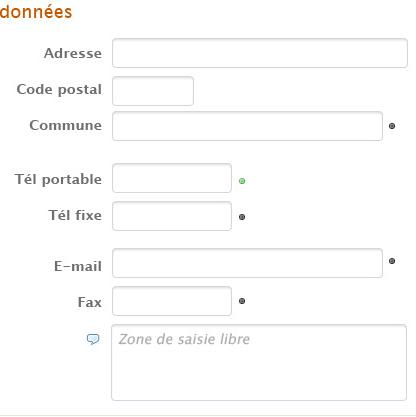field: (109, 322, 408, 402), (106, 35, 410, 72), (105, 109, 385, 143), (107, 248, 386, 280), (106, 284, 235, 318), (107, 199, 234, 232), (109, 162, 234, 194), (106, 75, 196, 108)
field_with_label: (41, 31, 415, 75), (29, 107, 389, 145), (53, 245, 389, 282), (12, 159, 239, 196), (11, 69, 198, 110), (49, 196, 237, 234), (76, 279, 238, 321)
